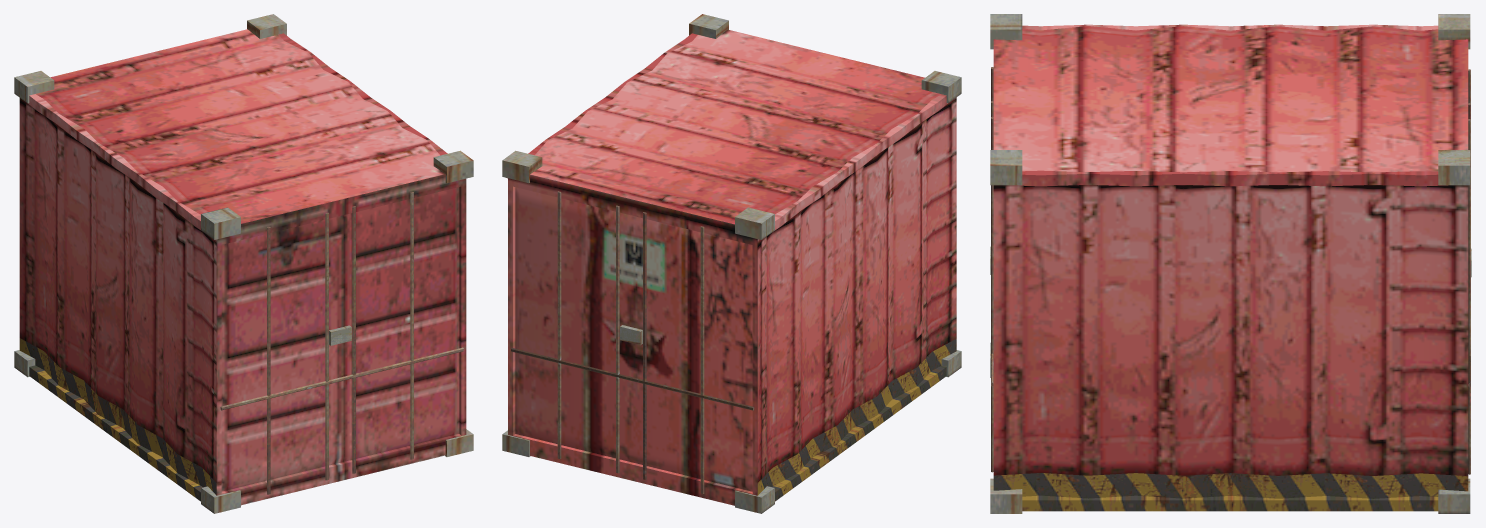
File: ContainerShort1_SM.fbx
The picture shows the model from 3 angles, left to right: view 1: azimuth 30°, elevation 25°; view 2: azimuth 150°, elevation 25°; view 3: azimuth 270°, elevation 25°; orthographic projection. The views are drawn at different scales.
Parts seen in each view (by area): view 1: Box006; view 2: Box006; view 3: Box006.
Boxes of the visible parts, x1=… form: Box006: x1=14, y1=14, x2=473, y2=513; Box006: x1=502, y1=14, x2=961, y2=513; Box006: x1=990, y1=14, x2=1471, y2=513.
Size of the model in its own units: 238 by 255 by 319.
